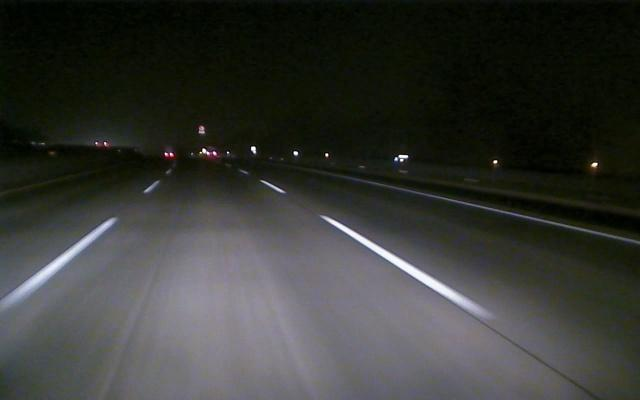lane: (261, 180, 496, 322), (2, 181, 159, 311), (381, 183, 639, 245)
